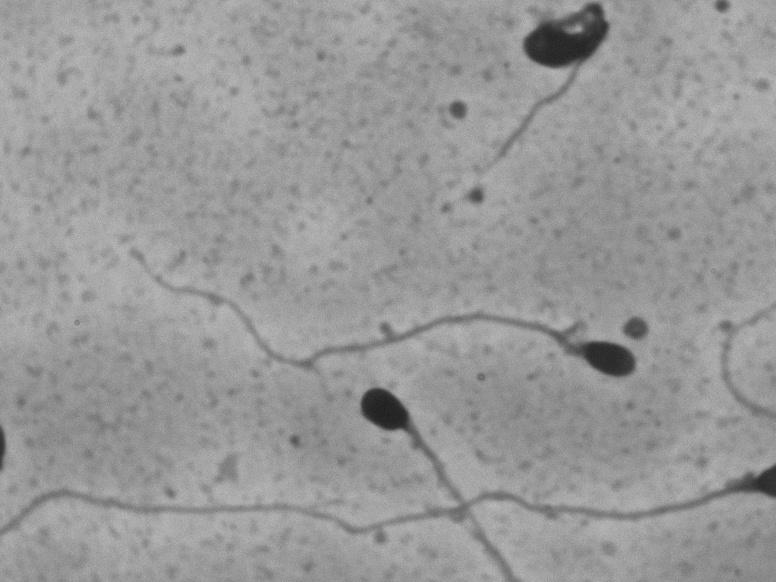Abnormal: (323, 376, 498, 561), (476, 5, 635, 171)
Normal: (117, 234, 653, 394)
